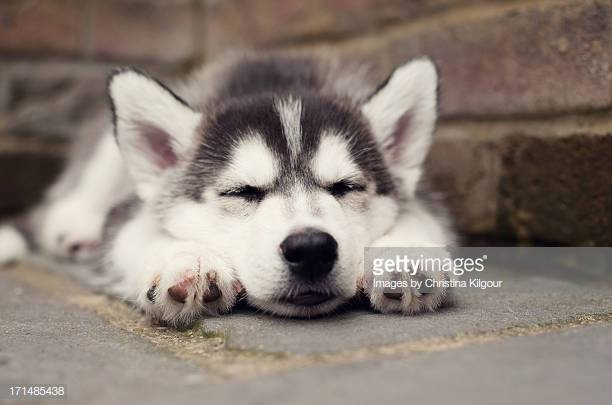husky: (82, 50, 480, 316)
